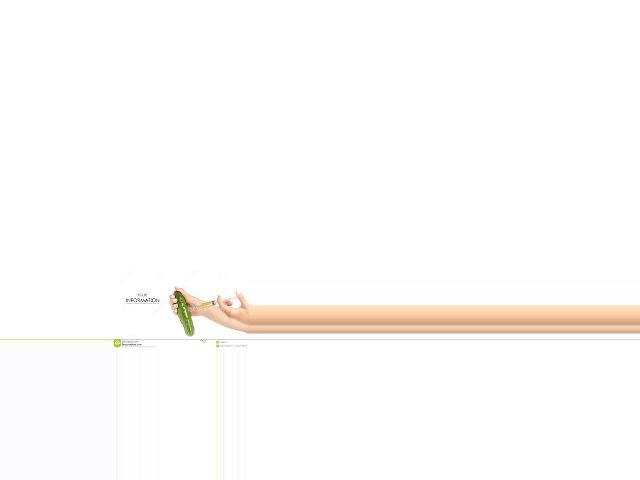cucumber: (174, 290, 194, 336)
